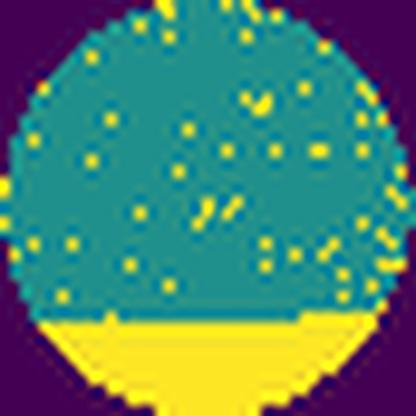Edge-Loc: (29, 305, 392, 416)
